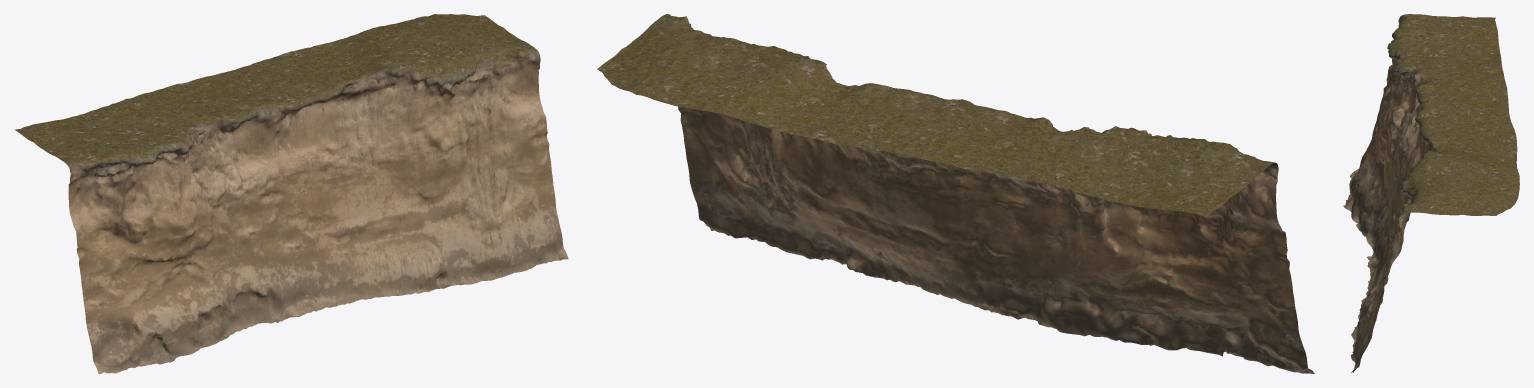
File: beach_cliff_02_A.fbx
3 views of the same model, side by side, from view 1: azimuth 30°, elevation 25°; view 2: azimuth 150°, elevation 25°; view 3: azimuth 270°, elevation 25° (orthographic). The views are drawn at different scales.
Parts seen in each view (by area): view 1: beach_cliff_02_A_LOD0; view 2: beach_cliff_02_A_LOD0; view 3: beach_cliff_02_A_LOD0.
Boxes of the visible parts, x1,y1,x2,y2 form: beach_cliff_02_A_LOD0: (14,14,568,373); beach_cliff_02_A_LOD0: (597,14,1314,373); beach_cliff_02_A_LOD0: (1343,14,1519,372).
Size of what is drawn, in the model's own units: 1639 by 653 by 617.
